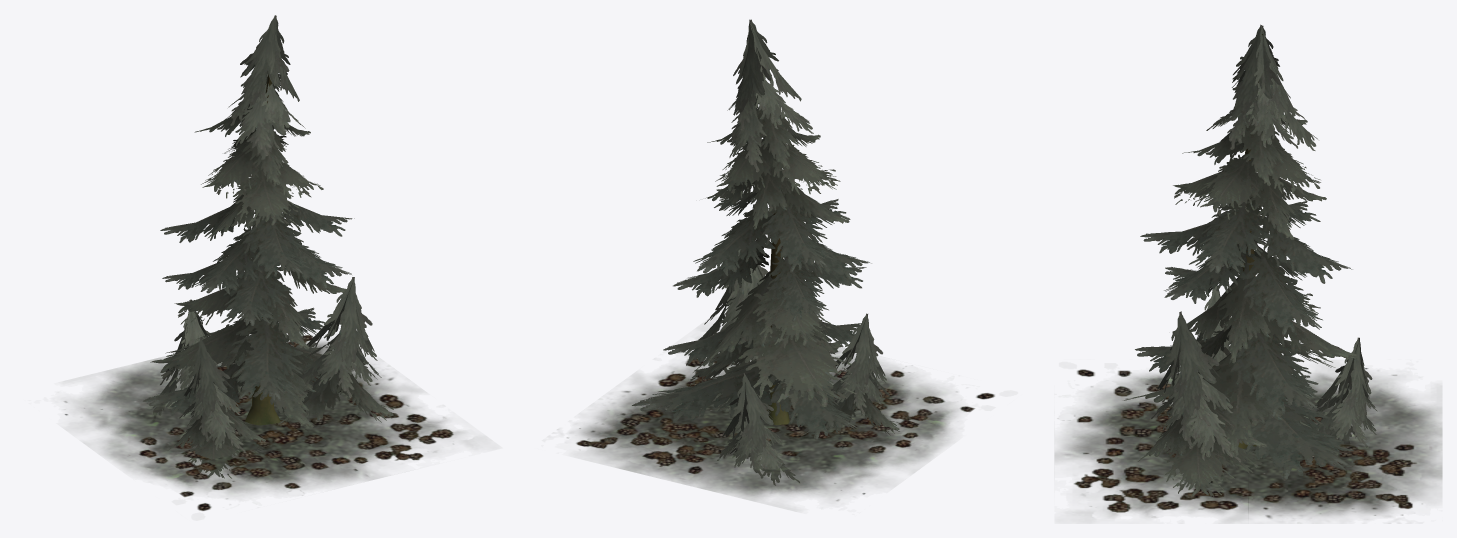
3 views of the same model, side by side, from view 1: azimuth 30°, elevation 25°; view 2: azimuth 150°, elevation 25°; view 3: azimuth 270°, elevation 25° (orthographic). The views are drawn at different scales.
Parts seen in each view (by area): view 1: plants_fir_b-0-plant, plants_fir_b-2-underlay, plants_fir_b-1-plant, plants_fir_b-0-trunk; view 2: plants_fir_b-0-plant, plants_fir_b-2-underlay, plants_fir_b-1-plant, plants_fir_b-0-trunk; view 3: plants_fir_b-0-plant, plants_fir_b-2-underlay, plants_fir_b-1-plant.
Part boxes in pixels (<box>): plants_fir_b-0-plant: <box>143,15,368,428</box>; plants_fir_b-2-underlay: <box>64,335,470,510</box>; plants_fir_b-1-plant: <box>160,277,393,478</box>; plants_fir_b-0-trunk: <box>245,74,280,425</box>; plants_fir_b-0-plant: <box>632,19,871,440</box>; plants_fir_b-2-underlay: <box>567,330,994,501</box>; plants_fir_b-1-plant: <box>686,249,899,485</box>; plants_fir_b-0-trunk: <box>766,212,789,425</box>; plants_fir_b-0-plant: <box>1123,24,1357,480</box>; plants_fir_b-2-underlay: <box>1055,368,1442,521</box>; plants_fir_b-1-plant: <box>1137,285,1377,496</box>.
Size of the model in its own units: 9 by 11.68 by 9.
Materials: 3 (3 with a texture image).
